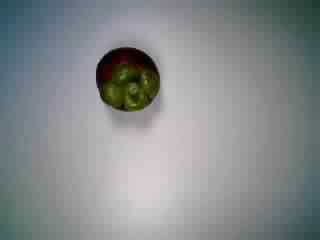mangosteen: (89, 41, 168, 121)
